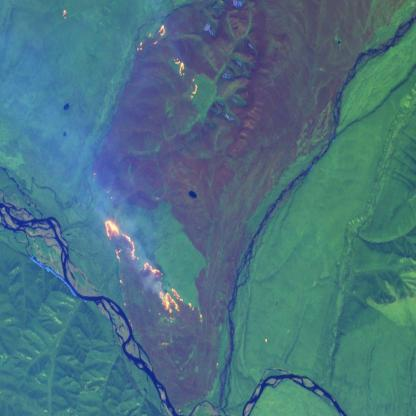fire: (102, 214, 204, 336), (135, 19, 200, 99)
